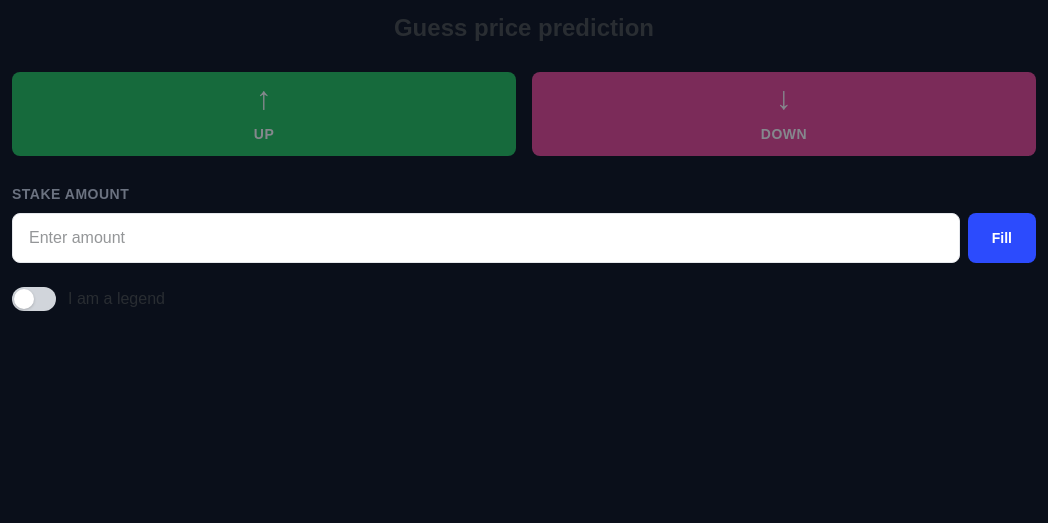
Test: PredictionControls › shows exact price validation message for legend prediction bounds
Type "10" into the number field labelled "Stake Amount". click: (486, 238)
box: 12,213 -> 960,263
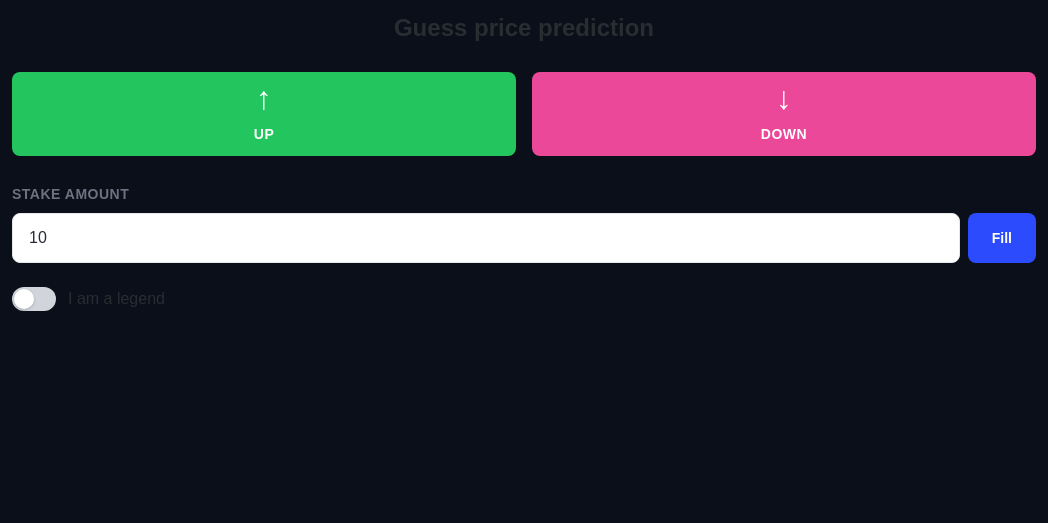
Click the checkbox labelled "I am a legend". click: click(88, 299)
box: 12,287 -> 165,311
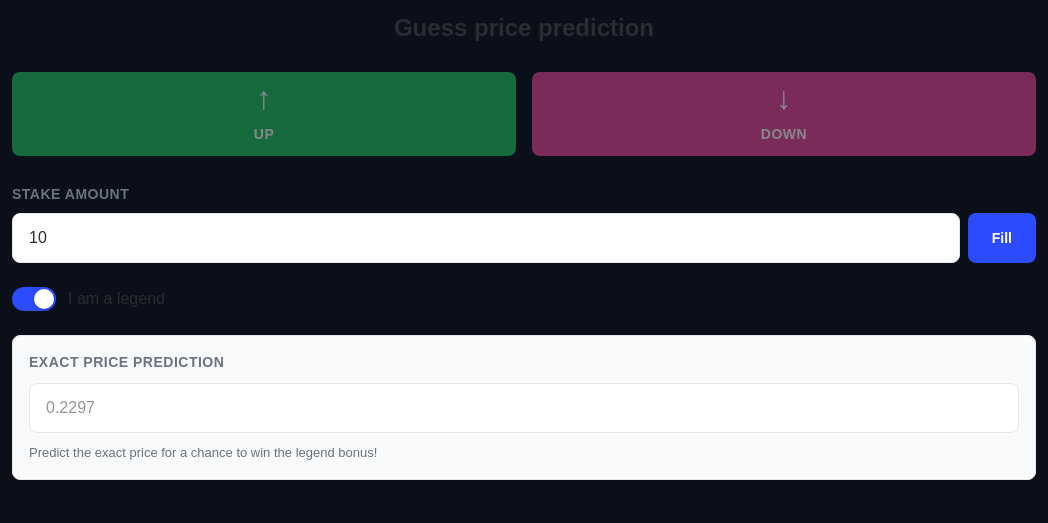
Type "10.0001" into the number field labelled "Exact Price Prediction". click: (524, 408)
box: 29,383 -> 1019,433
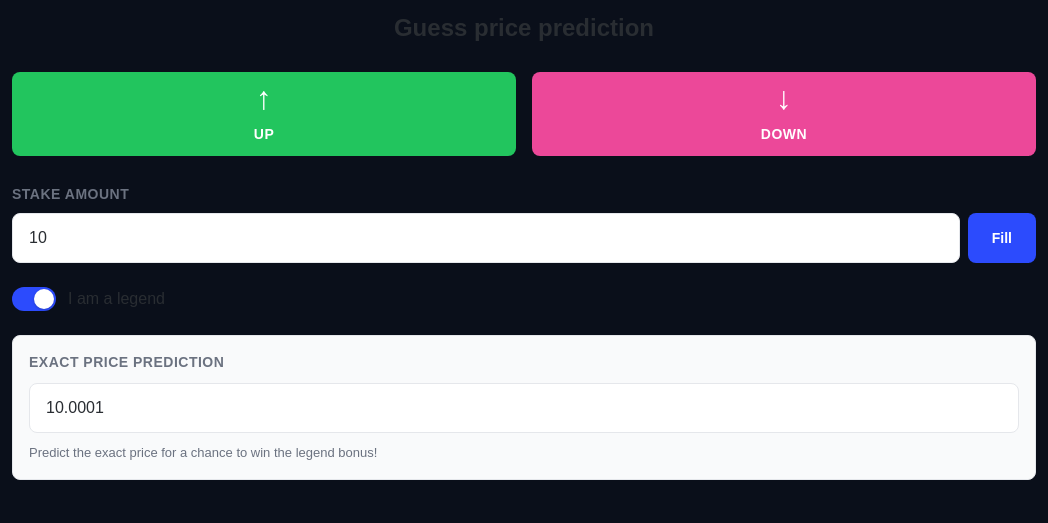
Leave the number field labelled "Exact Price Prediction", box 29,383 -> 1019,433
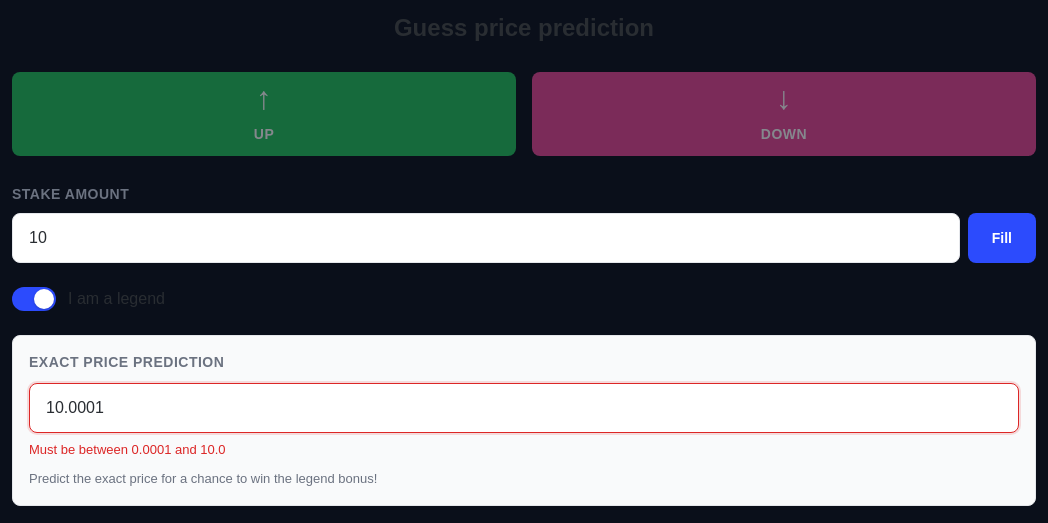
Now the message shows "Must be between 0.0001 and 10", box 29,442 -> 226,457
